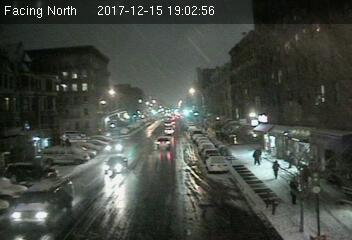car: (11, 178, 77, 228), (103, 155, 128, 174), (205, 156, 229, 171), (104, 140, 126, 154), (154, 137, 172, 150)
pedestrian: (253, 147, 262, 166), (271, 160, 280, 179)
